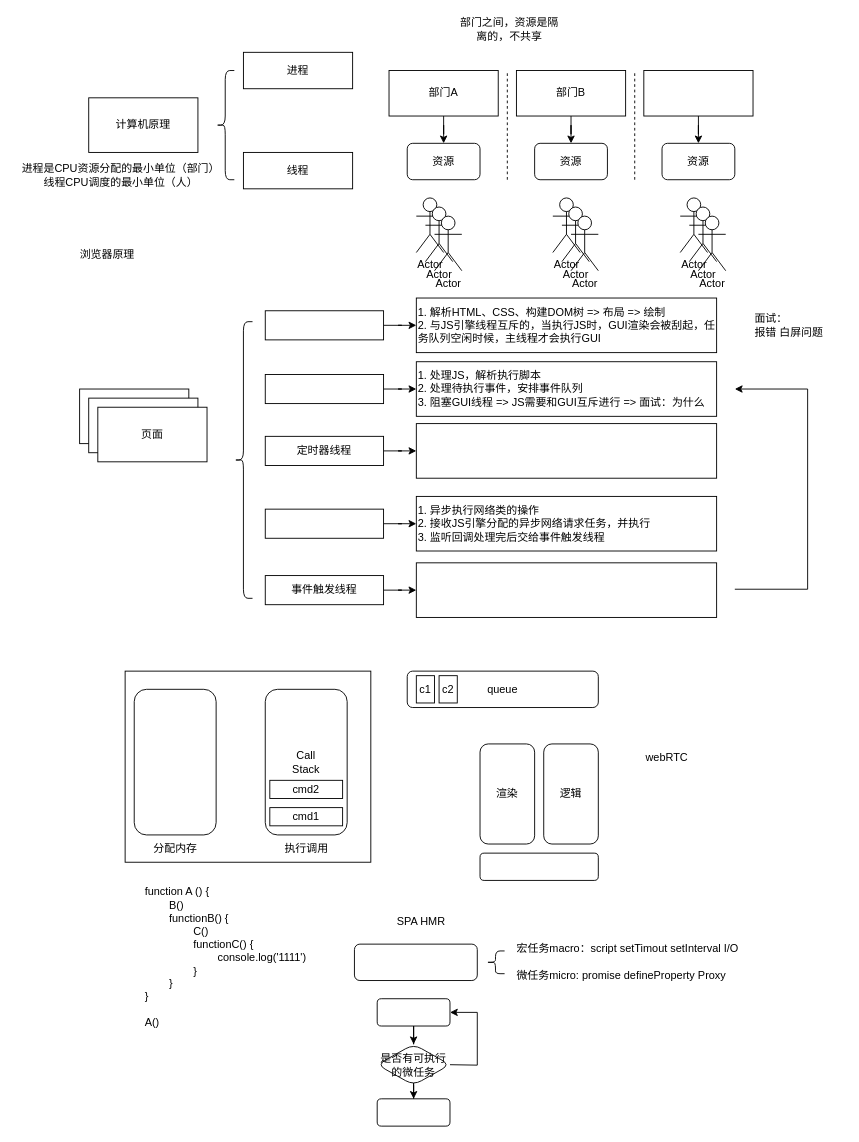
Some shapes in this 859 by 1142 pixel diagram are drawn without their labels. The centre of each missing label's shape, as x and y in pixels:
1. 异步定时器的处理和执行 2. 接收JS引擎分配的定时器任务，并执行 3. 处理完后交给事件触发线程: [566,450]
1. 接收所有来源的事件 2. 把接收到的回调事件按照顺序加入到任务队列的队尾，做好排序，交给js引擎处理: [566,589]
base: [538,866]
GUI渲染线程: [324,325]
JS引擎线程: [324,389]
Memory Heap: [174,761]
任务: [415,962]
宏任务: [413,1012]
异步HTTP请求线程: [324,523]
微任务: [413,1112]
部门C: [698,93]
